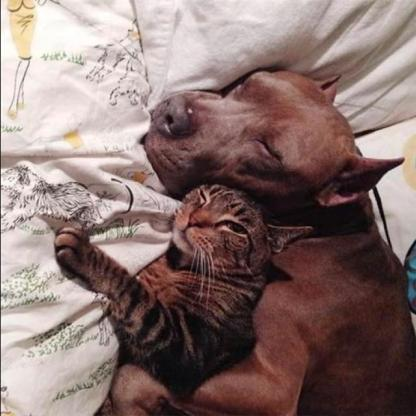cat: (60, 185, 287, 375)
dog: (140, 52, 394, 200)
